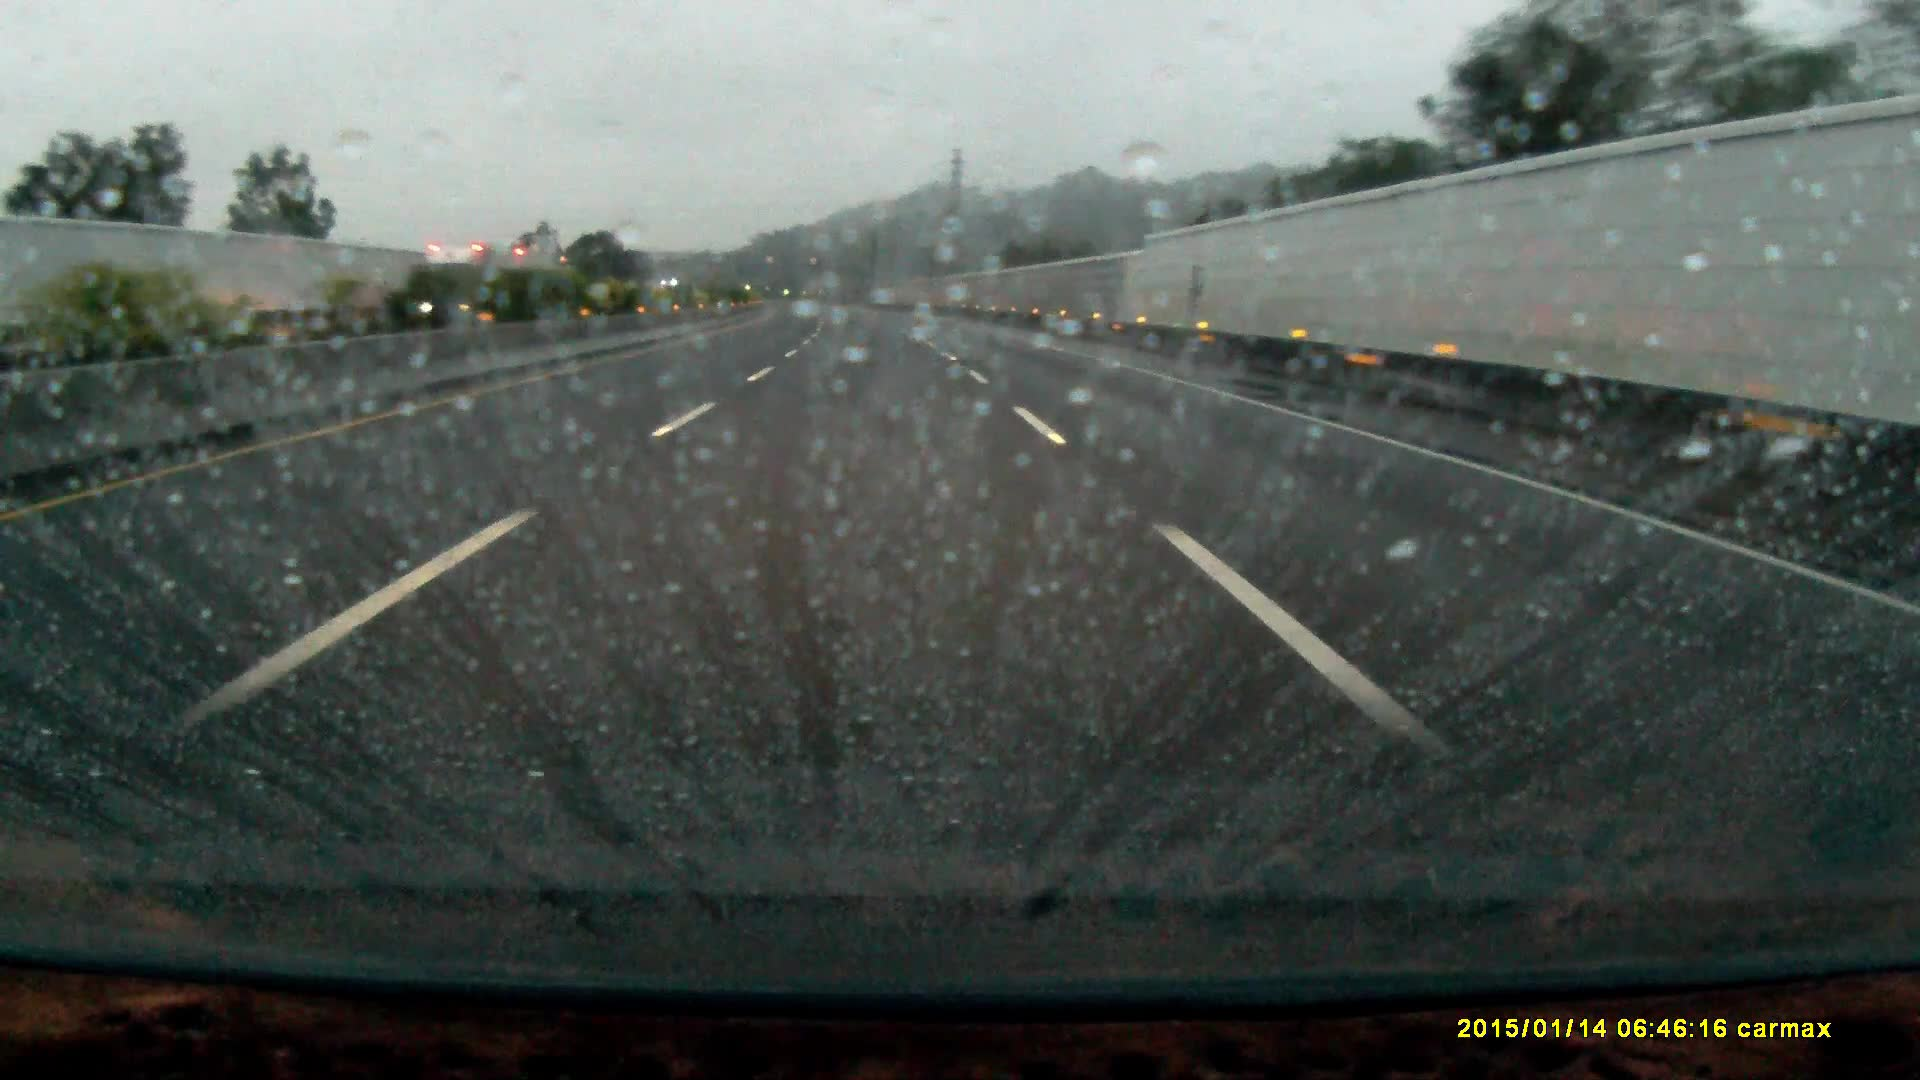vehicle: (414, 240, 549, 319)
